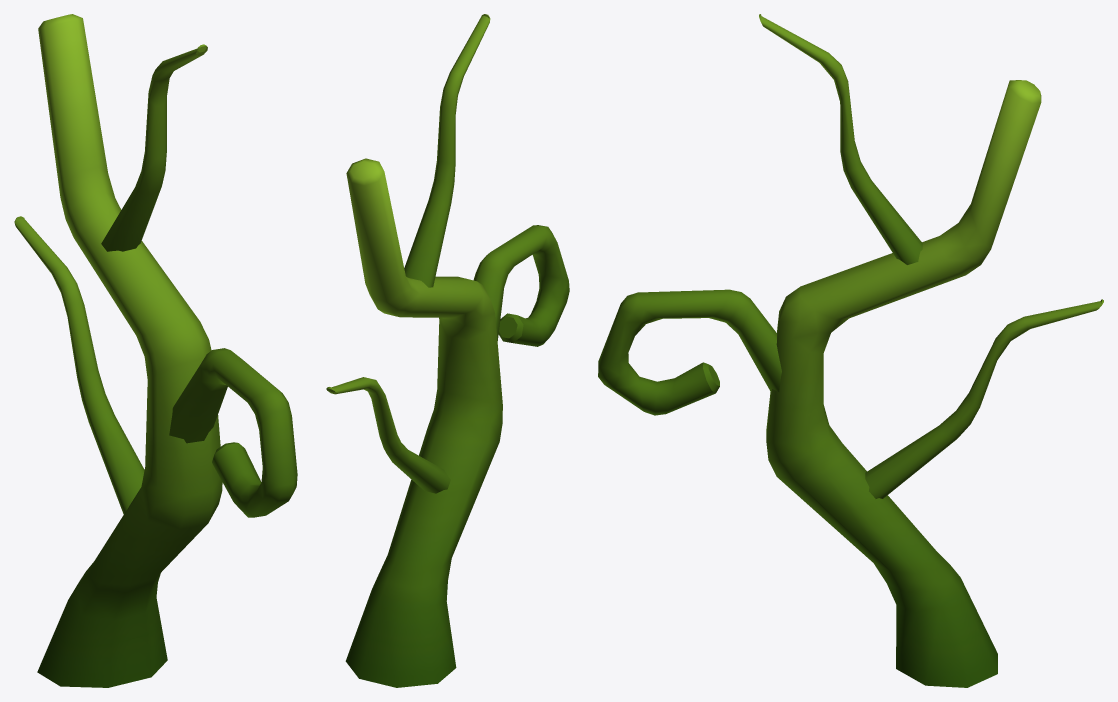
File: Vine_4_3.obj
The picture shows the model from 3 angles, left to right: view 1: azimuth 30°, elevation 25°; view 2: azimuth 150°, elevation 25°; view 3: azimuth 270°, elevation 25°; orthographic projection. The views are drawn at different scales.
Parts seen in each view (by area): view 1: Vine_4_3; view 2: Vine_4_3; view 3: Vine_4_3.
Part boxes in pixels (x1,y1,x2,y2): Vine_4_3: [14, 14, 297, 687]; Vine_4_3: [326, 14, 569, 687]; Vine_4_3: [598, 14, 1103, 687].
Size of the model in its own units: 0.1582 by 0.9674 by 0.6831.
